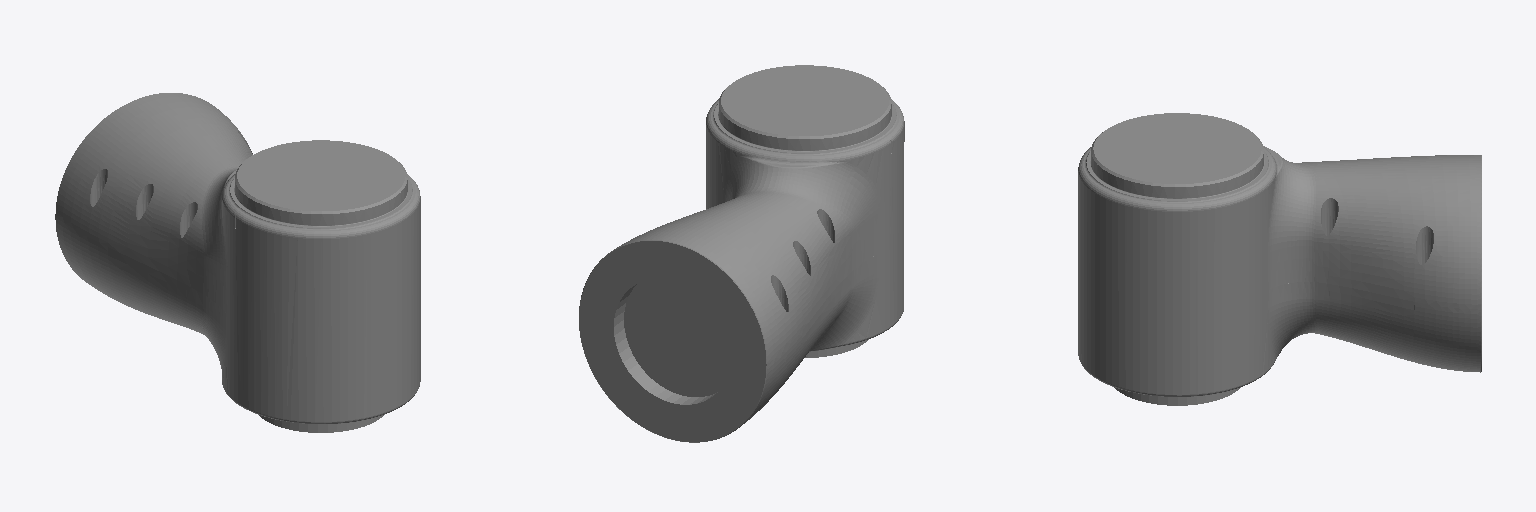
The picture shows the model from 3 angles: view 1: azimuth 30°, elevation 25°; view 2: azimuth 150°, elevation 25°; view 3: azimuth 270°, elevation 25°; orthographic projection.
Parts seen in each view (by area): view 1: AR5-5_07L-W4S4A1-ZY_link3; view 2: AR5-5_07L-W4S4A1-ZY_link3; view 3: AR5-5_07L-W4S4A1-ZY_link3.
Boxes of the visible parts, x1=… form: AR5-5_07L-W4S4A1-ZY_link3: x1=55, y1=93, x2=420, y2=432; AR5-5_07L-W4S4A1-ZY_link3: x1=579, y1=65, x2=904, y2=442; AR5-5_07L-W4S4A1-ZY_link3: x1=1078, y1=113, x2=1481, y2=405.
Bounding box in the file's own units: 0.1017 × 0.111 × 0.1778.